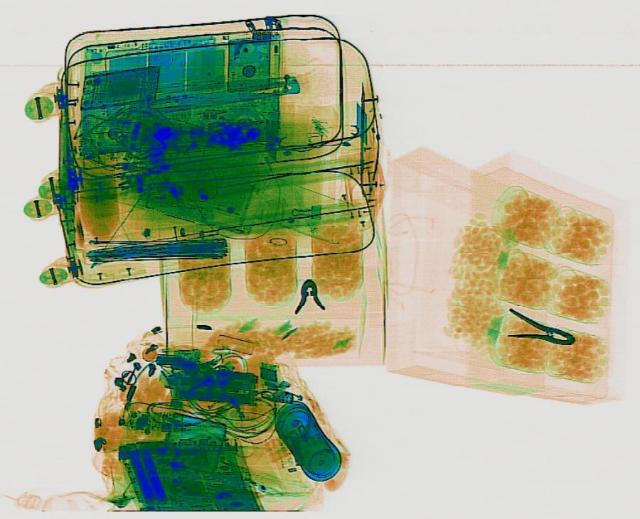Pliers: (494, 304, 582, 352), (288, 276, 324, 312)
